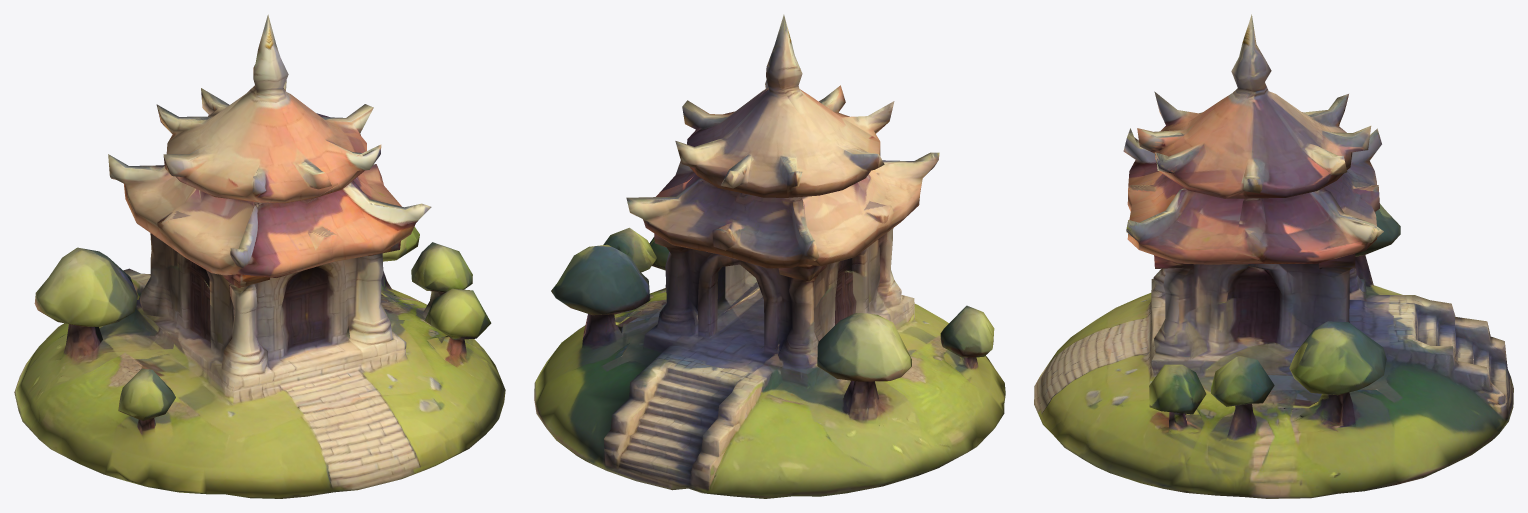
The model's file is Spirit_Temple.glb.
The picture shows the model from 3 angles, left to right: view 1: azimuth 30°, elevation 25°; view 2: azimuth 150°, elevation 25°; view 3: azimuth 270°, elevation 25°; orthographic projection. The views are drawn at different scales.
Parts seen in each view (by area): view 1: Mesh_0; view 2: Mesh_0; view 3: Mesh_0.
Boxes of the visible parts, left/top/right/bottom form: Mesh_0: left=14, top=14, right=505, bottom=498; Mesh_0: left=534, top=14, right=1005, bottom=498; Mesh_0: left=1034, top=14, right=1513, bottom=498.
Bounding box in the file's own units: 0.2271 × 0.2 × 0.2265.
Materials: 1 (1 with a texture image).
